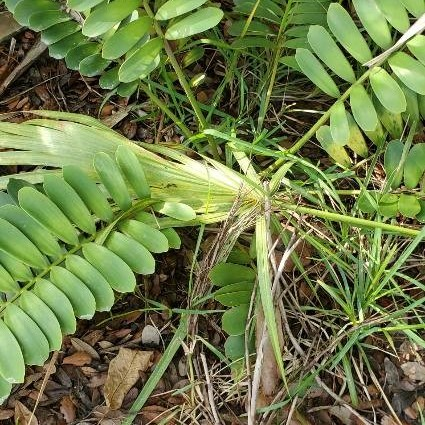obstacle: (17, 104, 377, 388)
